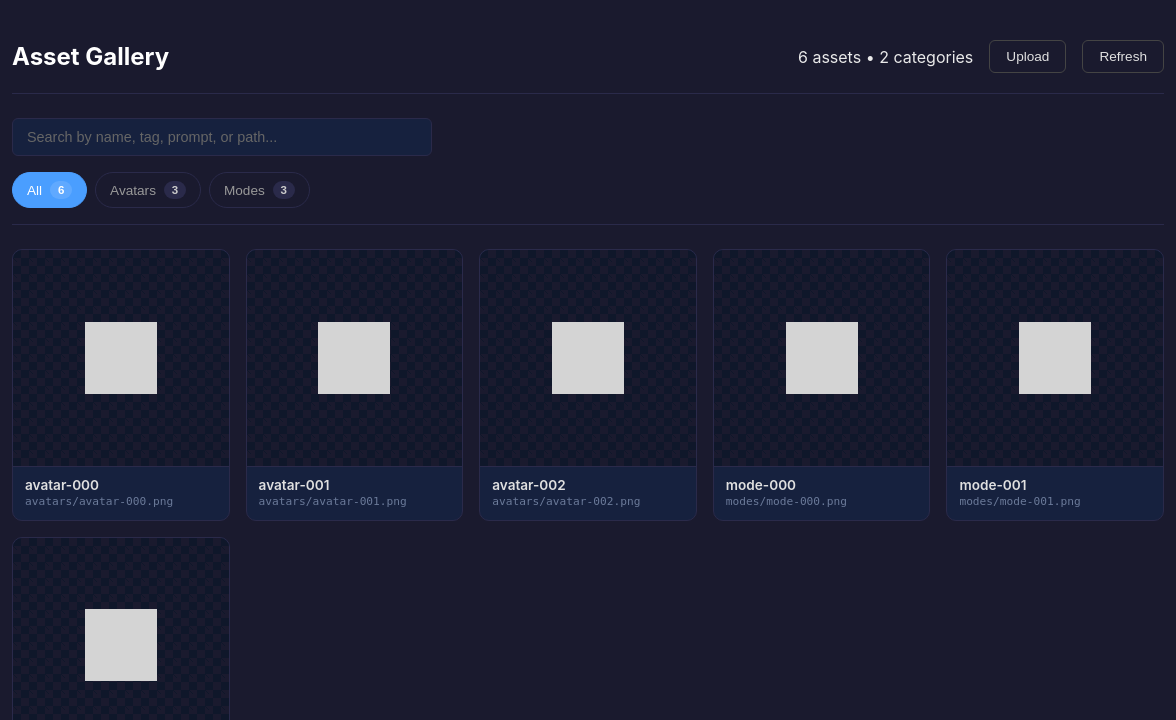
Test: AdminAssetGalleryPage — filters › shows an empty state when no assets match the filters
Type "nonexistent-token-xyz" into the search field with test id "admin-gallery-search" at (222, 137), box x1=12 y1=118 x2=432 y2=156
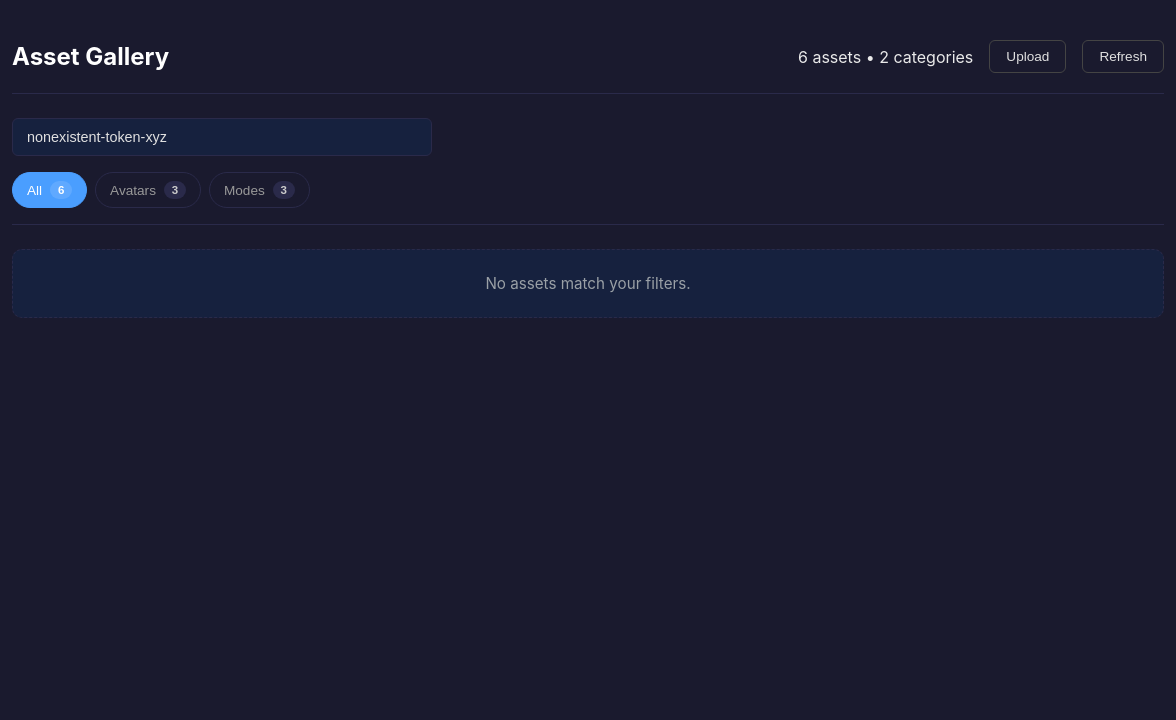
Check: the text "No assets match your filters." is shown, box x1=12 y1=249 x2=1164 y2=318
